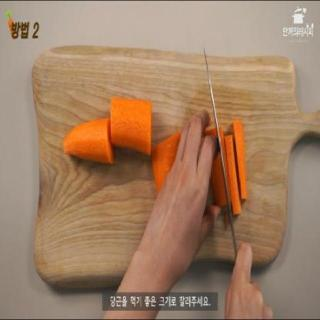carrot: (109, 91, 153, 153), (62, 117, 111, 167)
